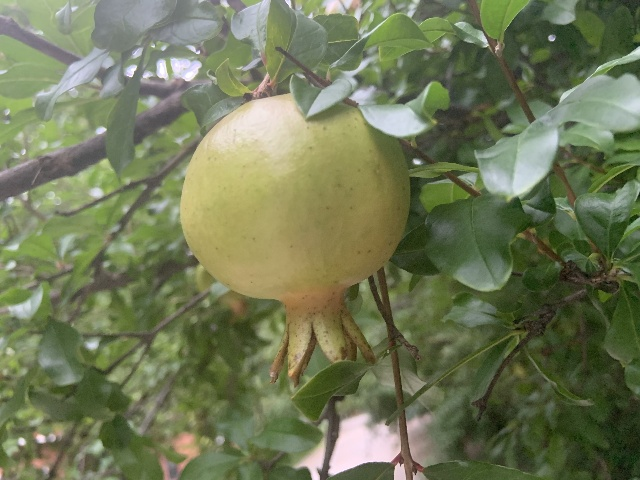mid-growth: (179, 92, 411, 387)
